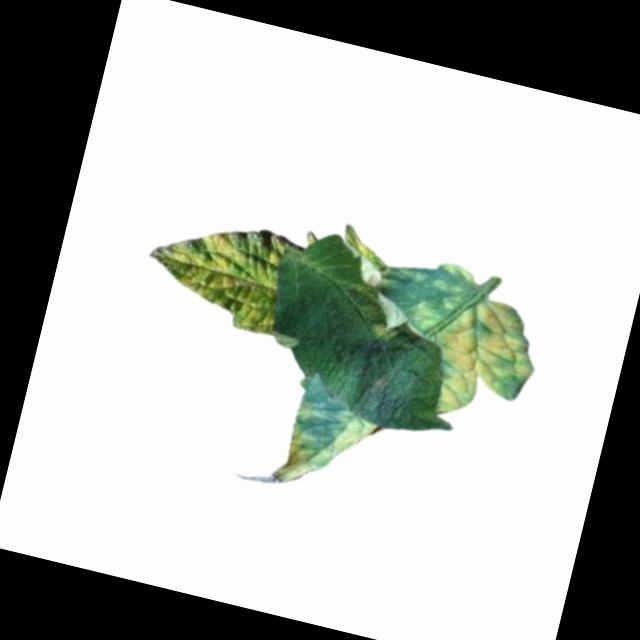Leaf_Mold: (134, 204, 294, 341), (421, 292, 549, 434), (277, 399, 382, 505), (403, 296, 440, 333), (365, 319, 403, 352)
